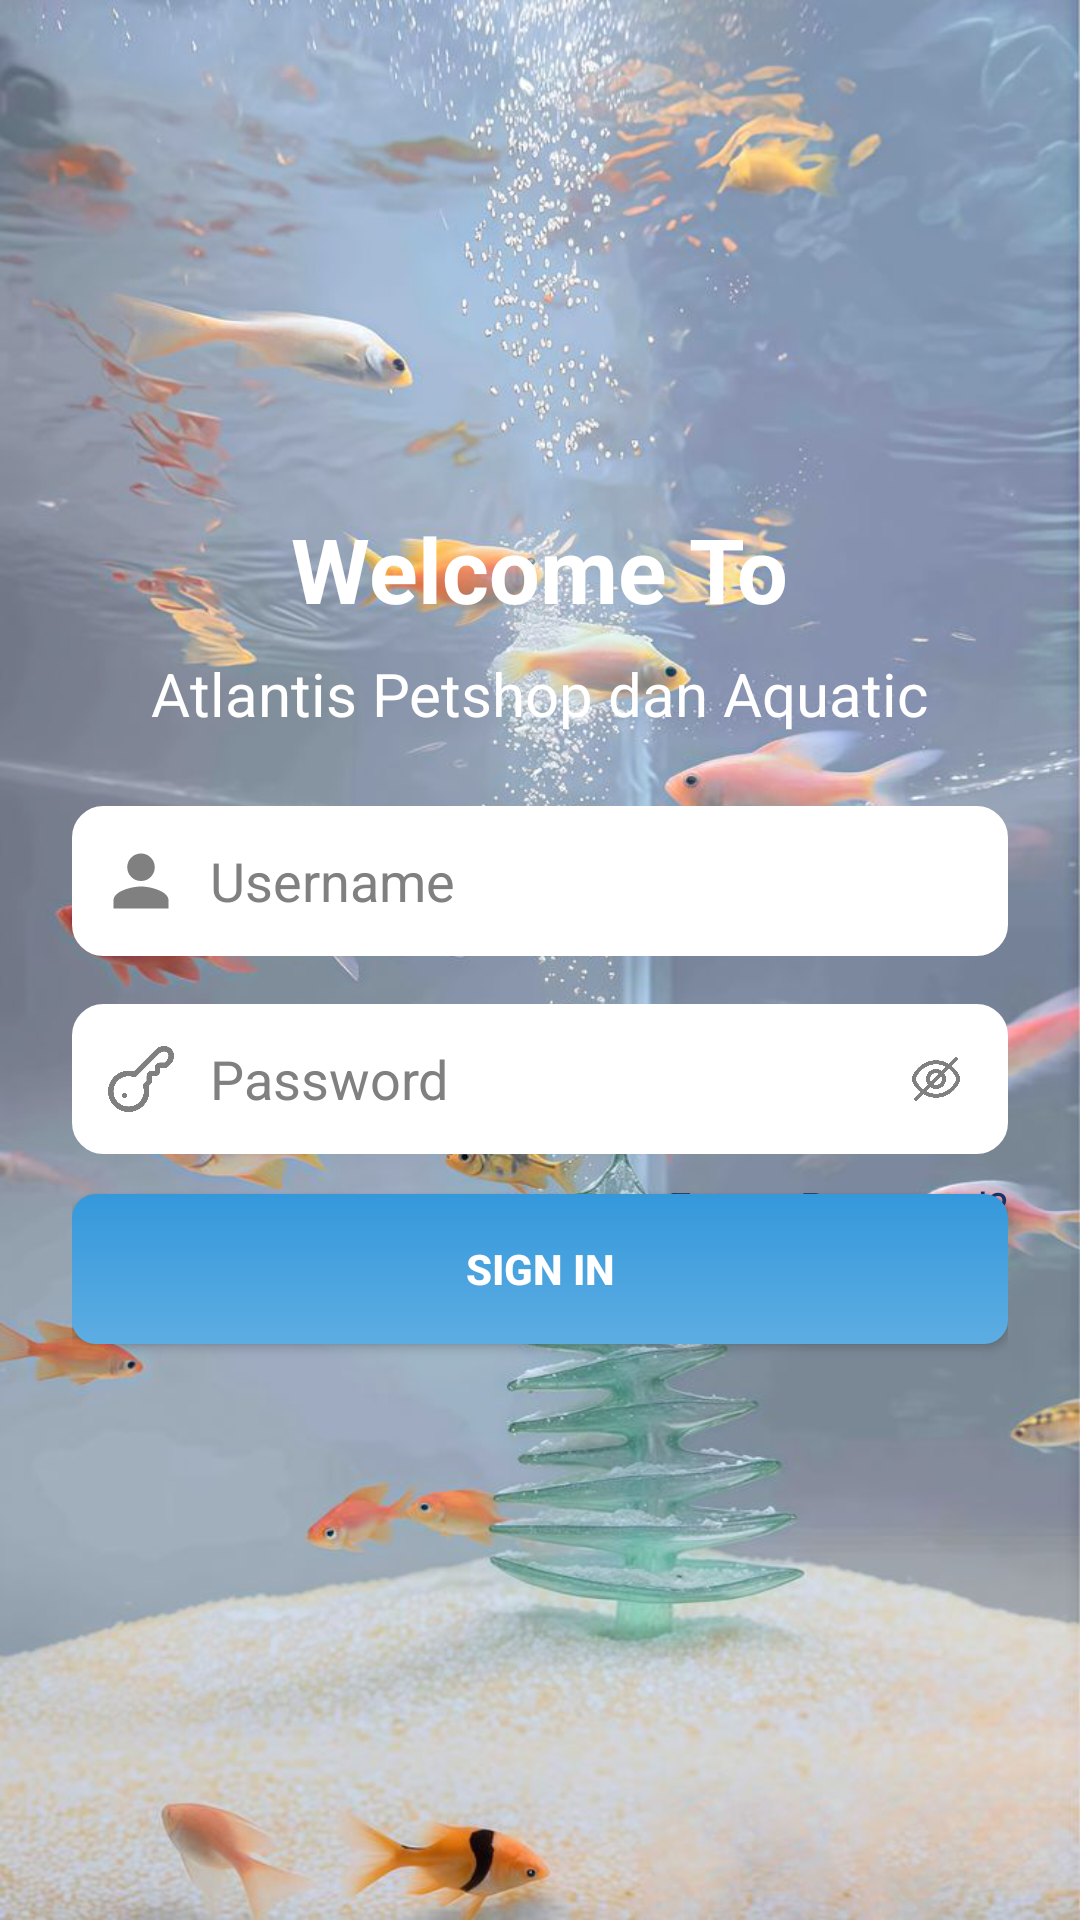

Where icons sit on this 1080w x 1920h app screen, as bbox=(x1, y1, x2, y2):
eye off: bbox=(912, 1057, 960, 1101)
key: bbox=(108, 1046, 174, 1112)
